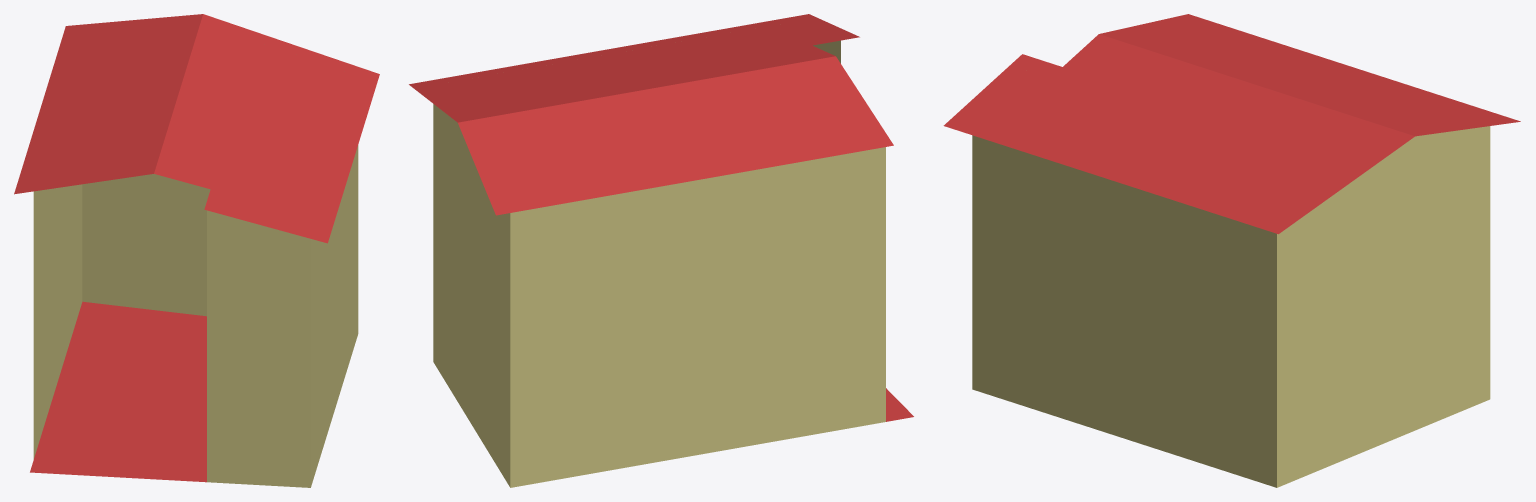
3 renders of one model, left to right at view 1: azimuth 30°, elevation 25°; view 2: azimuth 150°, elevation 25°; view 3: azimuth 270°, elevation 25°, orthographic. The views are drawn at different scales.
Size of the model in its own units: 12.06 by 14.07 by 8.23.
